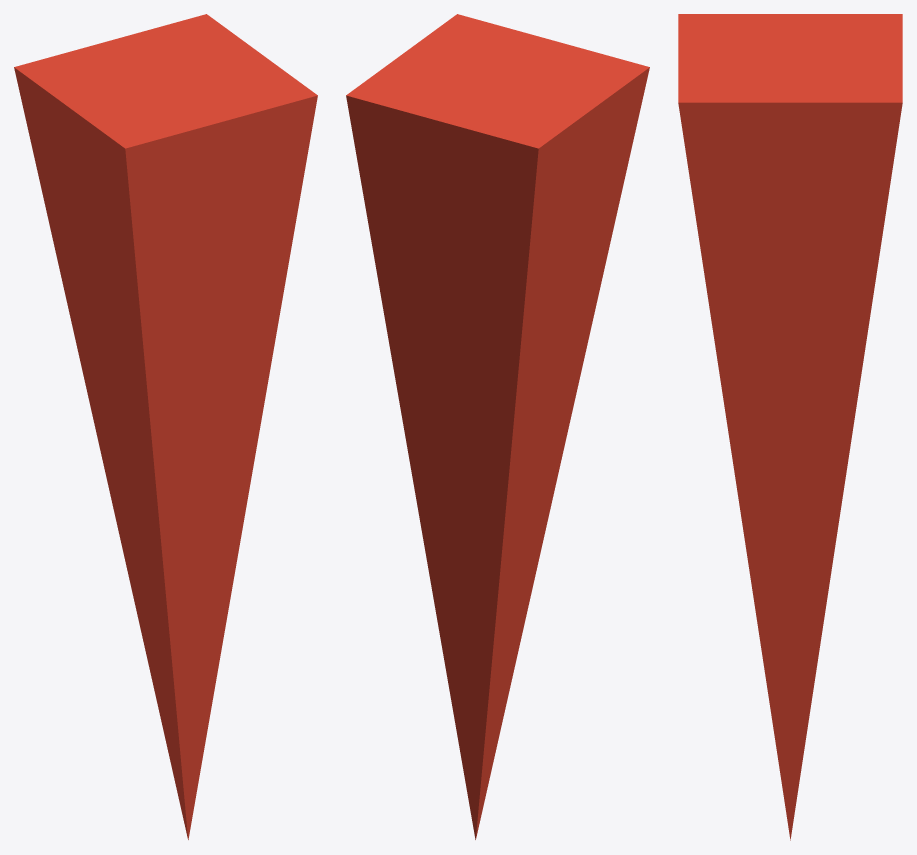
Rendered from Pin1.glb.
3 views of the same model, side by side, from view 1: azimuth 30°, elevation 25°; view 2: azimuth 150°, elevation 25°; view 3: azimuth 270°, elevation 25° (orthographic).
Parts seen in each view (by area): view 1: Cube; view 2: Cube; view 3: Cube.
Part boxes in pixels (<box>): Cube: <box>14,14,317,839</box>; Cube: <box>346,14,649,839</box>; Cube: <box>678,14,902,840</box>.
Bounding box in the file's own units: 0.4635 × 1.77 × 0.4637.
